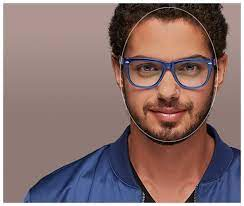g.y: (124, 56, 164, 96)
